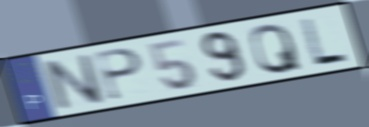5: (145, 36, 199, 92)
9: (200, 28, 248, 86)
L: (298, 15, 351, 66)
N: (39, 52, 109, 113)
P: (93, 46, 145, 103)
Q: (248, 21, 304, 76)
